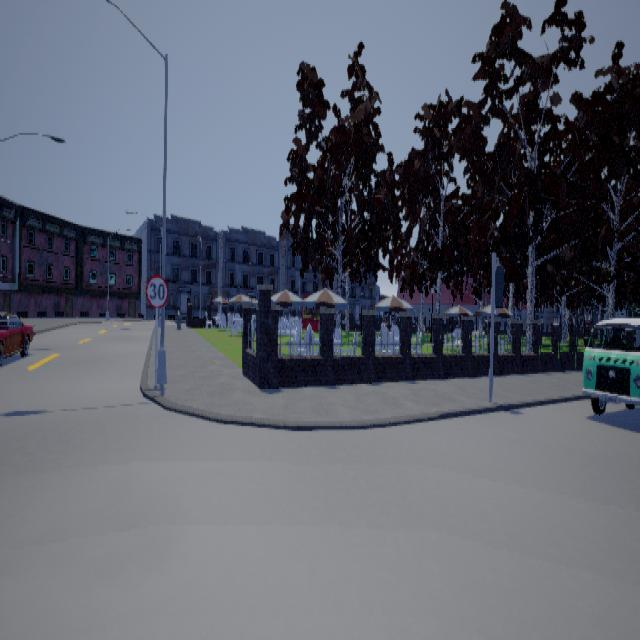traffic_sign: (145, 273, 167, 306)
vehicle: (581, 317, 639, 414), (0, 310, 33, 365)
